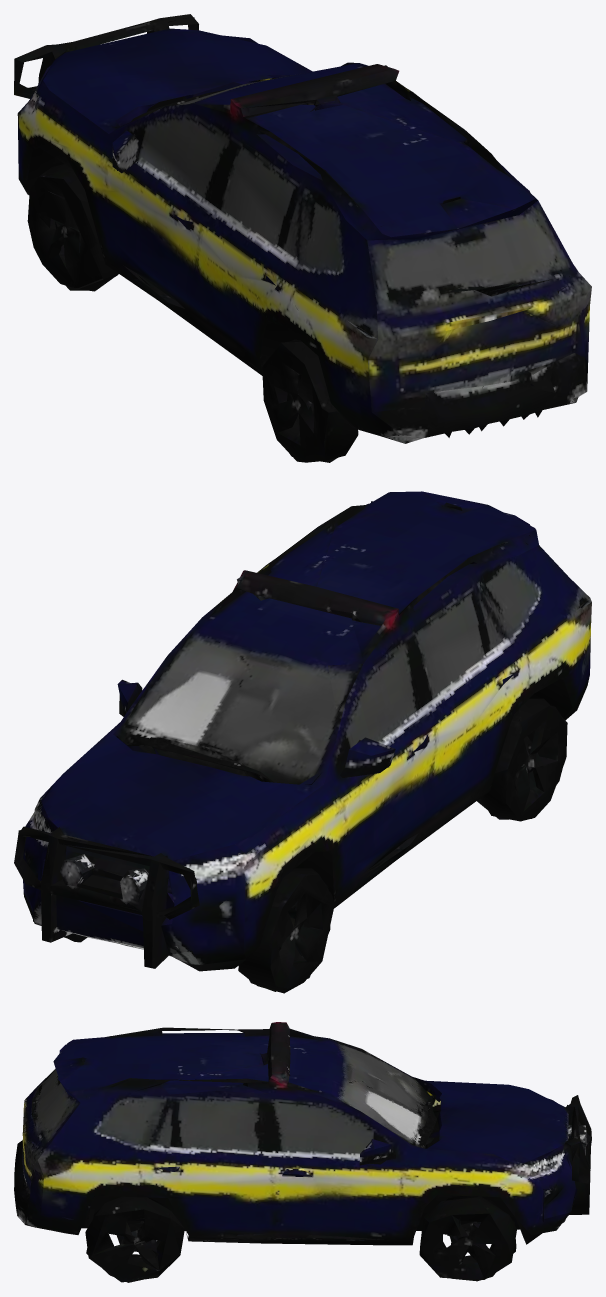
File: viatura-prf.glb
3 renders of one model, top to bottom at view 1: azimuth 30°, elevation 25°; view 2: azimuth 150°, elevation 25°; view 3: azimuth 270°, elevation 25°, orthographic. The views are drawn at different scales.
Parts seen in each view (by area): view 1: corpo; view 2: corpo; view 3: corpo.
Part boxes in pixels (<box>): corpo: <box>14,14,591,462</box>; corpo: <box>14,491,591,993</box>; corpo: <box>14,1022,591,1282</box>.
Bounding box in the file's own units: 1.95 × 1.85 × 4.95.
Materials: 1 (1 with a texture image).
